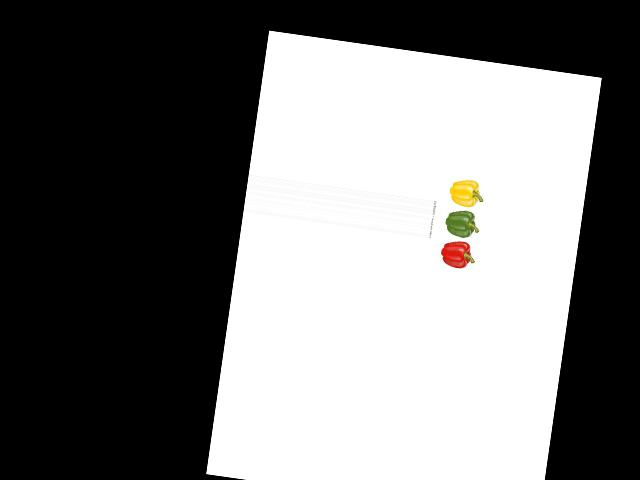bell_pepper: (444, 175, 485, 210)
